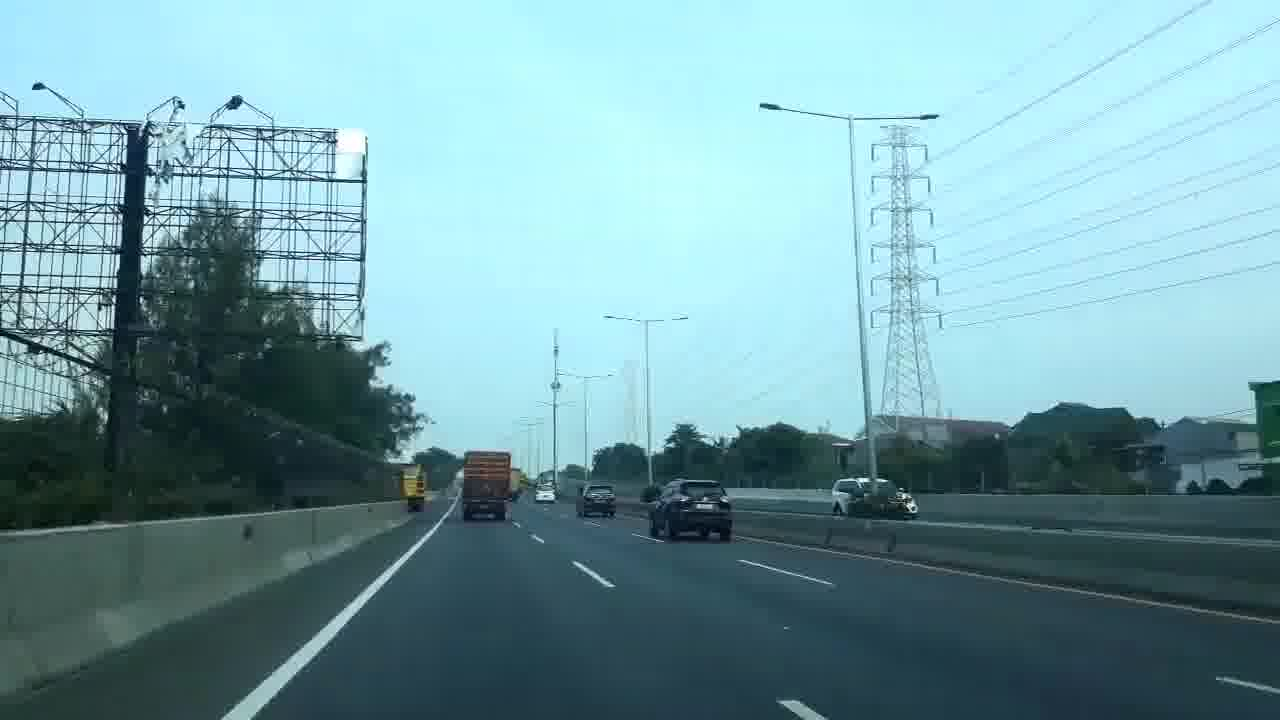plate_positive: (695, 503, 712, 510)
